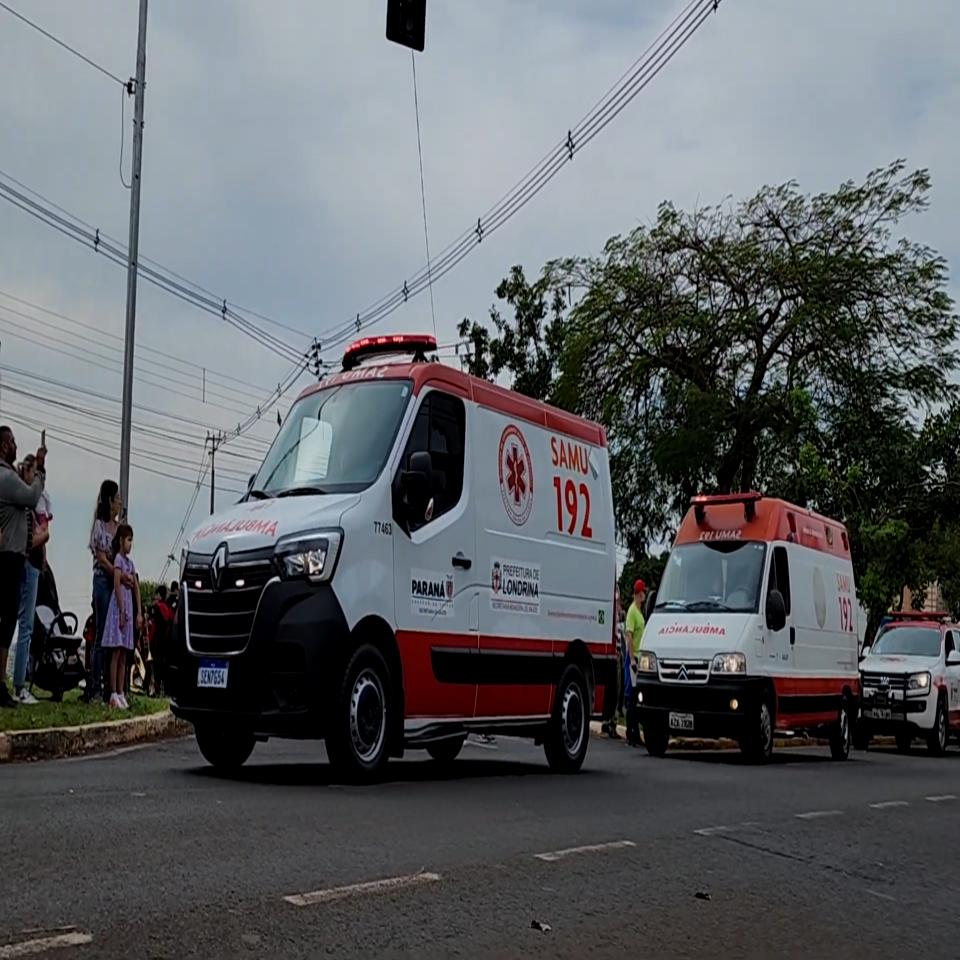ambulancia: (165, 330, 621, 786)
